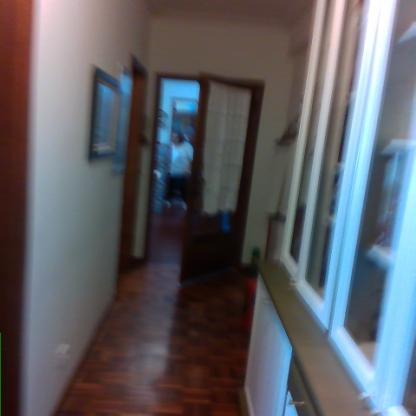semi: (140, 64, 268, 286)
